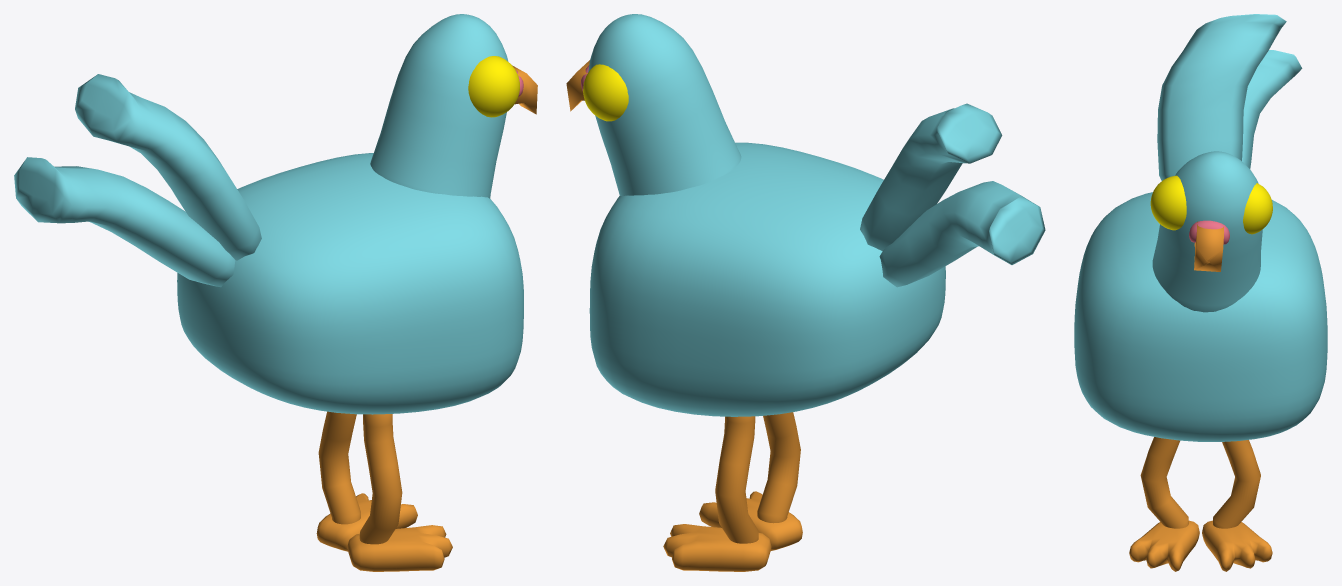
File: Taube_1.glb
3 renders of one model, left to right at view 1: azimuth 30°, elevation 25°; view 2: azimuth 150°, elevation 25°; view 3: azimuth 270°, elevation 25°, orthographic. The views are drawn at different scales.
Visible parts, largest first — view 1: Cube, Cylinder, Cube.005, Cube.004, Cylinder.001, Cube.003, Sphere; view 2: Cube, Cylinder, Cube.005, Cube.004, Cylinder.001, Cube.003, Sphere; view 3: Cube, Cube.004, Cylinder, Cylinder.001, Cube.003, Cube.005, Sphere, Cube.001, Cube.002.
Part boxes in pixels (left/top/right/bottom): Cube: left=177, top=153, right=523, bottom=414; Cylinder: left=370, top=14, right=508, bottom=198; Cube.005: left=14, top=157, right=235, bottom=287; Cube.004: left=75, top=74, right=261, bottom=260; Cylinder.001: left=318, top=411, right=402, bottom=544; Cube.003: left=316, top=493, right=452, bottom=571; Sphere: left=468, top=56, right=519, bottom=117; Cube: left=589, top=142, right=945, bottom=416; Cylinder: left=588, top=14, right=741, bottom=195; Cube.005: left=879, top=181, right=1045, bottom=287; Cube.004: left=860, top=103, right=1002, bottom=251; Cylinder.001: left=715, top=412, right=800, bottom=543; Cube.003: left=663, top=491, right=802, bottom=571; Sphere: left=583, top=64, right=628, bottom=121; Cube: left=1074, top=192, right=1327, bottom=441; Cube.004: left=1157, top=14, right=1286, bottom=180; Cylinder: left=1152, top=151, right=1262, bottom=312; Cylinder.001: left=1140, top=437, right=1260, bottom=528; Cube.003: left=1129, top=520, right=1272, bottom=571; Cube.005: left=1242, top=50, right=1302, bottom=168; Sphere: left=1150, top=175, right=1272, bottom=234; Cube.001: left=1194, top=221, right=1224, bottom=271; Cube.002: left=1189, top=220, right=1229, bottom=244.
Size of the model in its own units: 4.15 by 4.23 by 2.2.
